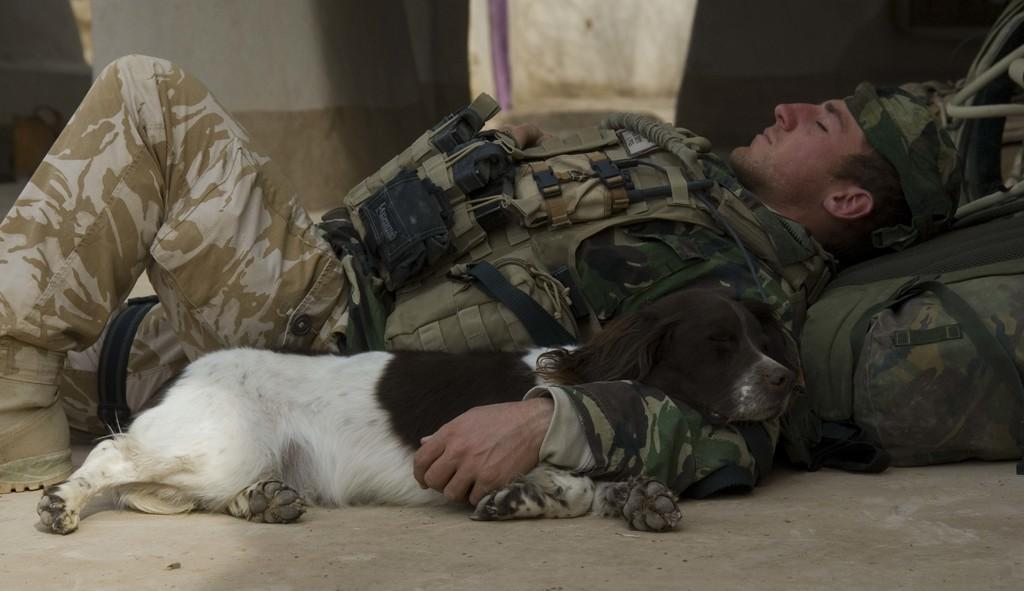Luggage-and-bags: (804, 204, 1023, 463)
